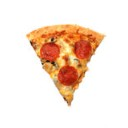pepperonipizza: (26, 23, 105, 108)
